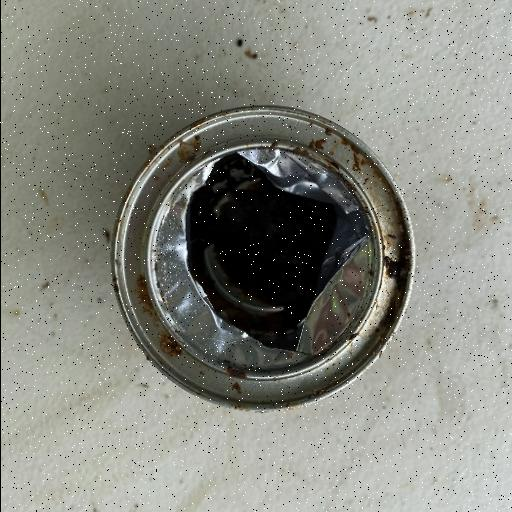Metal: (108, 102, 418, 414)
